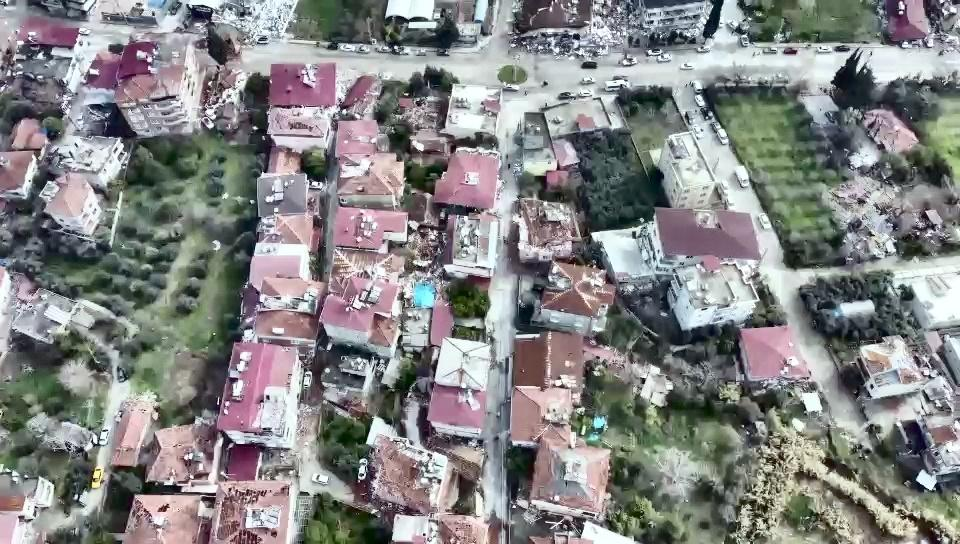kapali: (481, 500, 507, 543)
